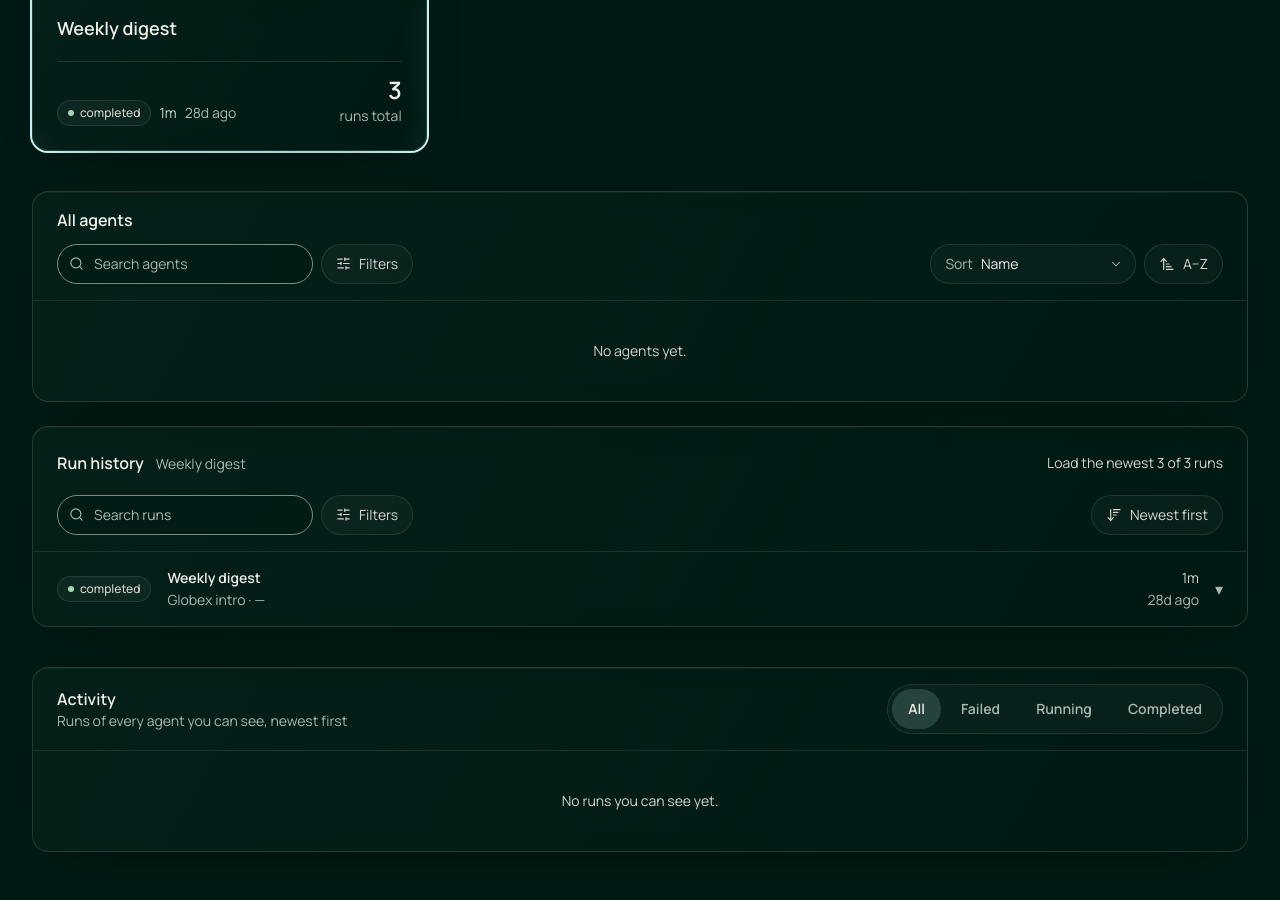
it: agents page run history list controls › sends the search once typing pauses and the reversed order
(page scrolled)
Type "acme" into the search field labelled "Search runs" at (185, 514), box [57, 494, 313, 534]
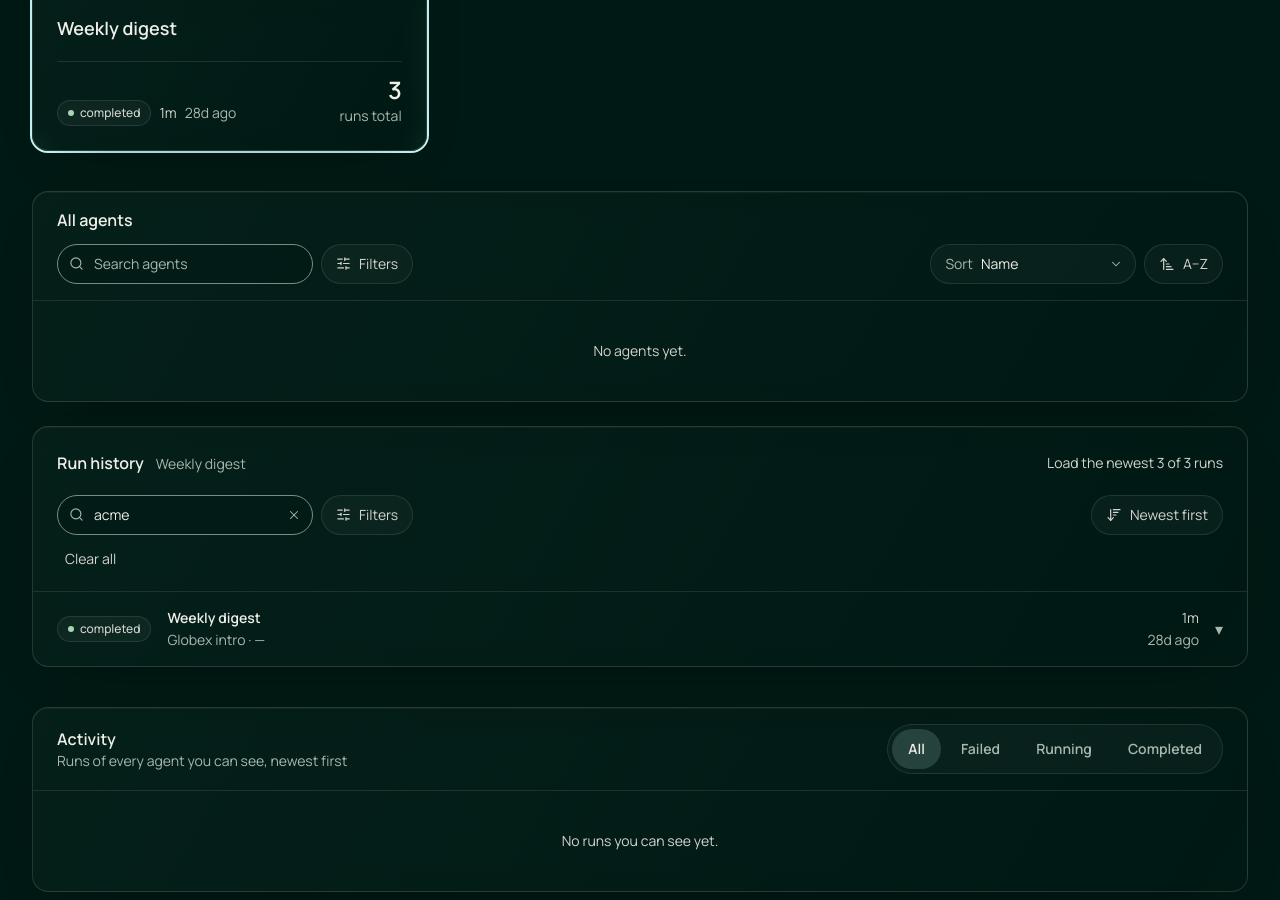
Click the button with aria-label "Order: Newest first" at (1157, 514), box [1091, 494, 1223, 534]
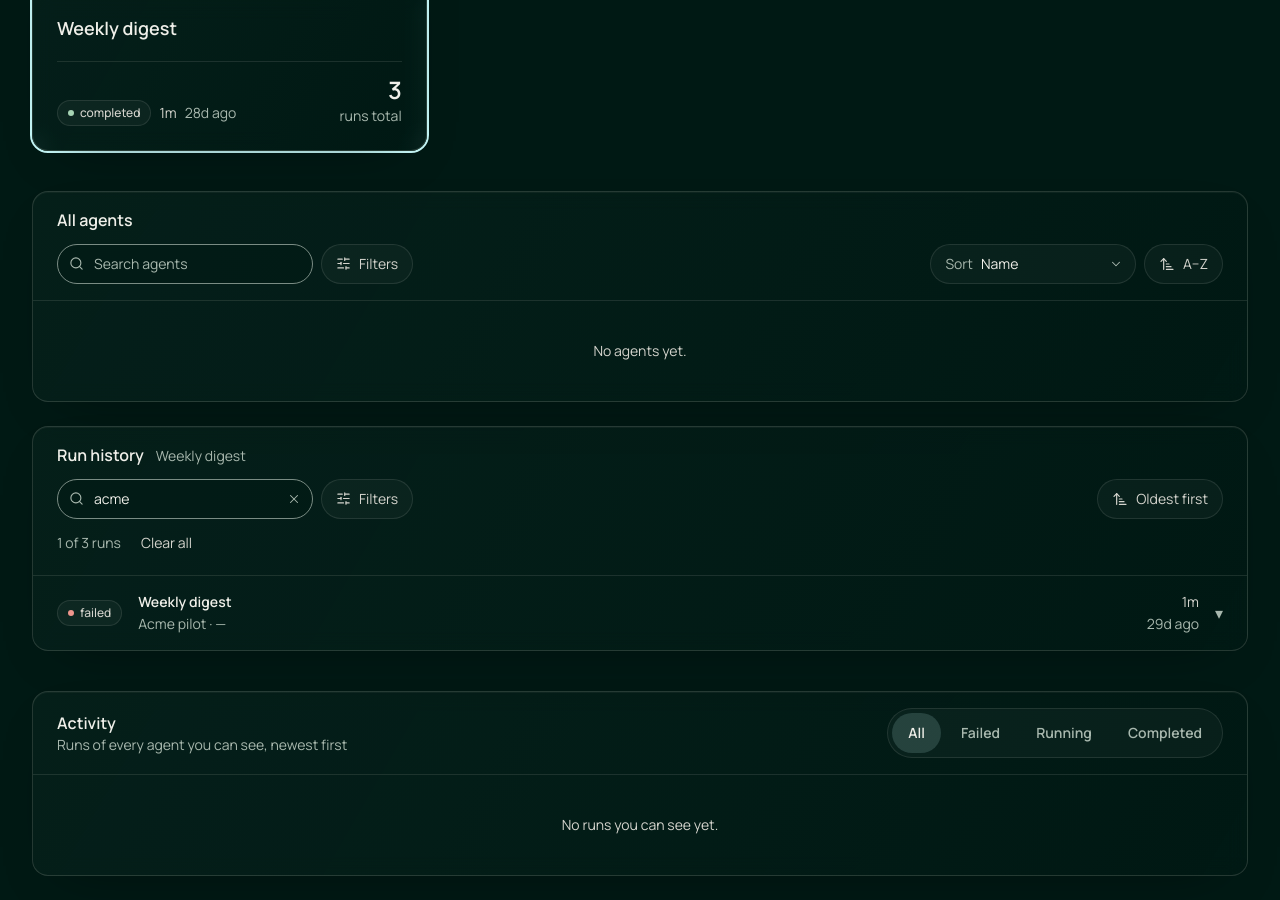
Expected: the text "Acme pilot · —" is shown, [138, 614, 226, 632]
